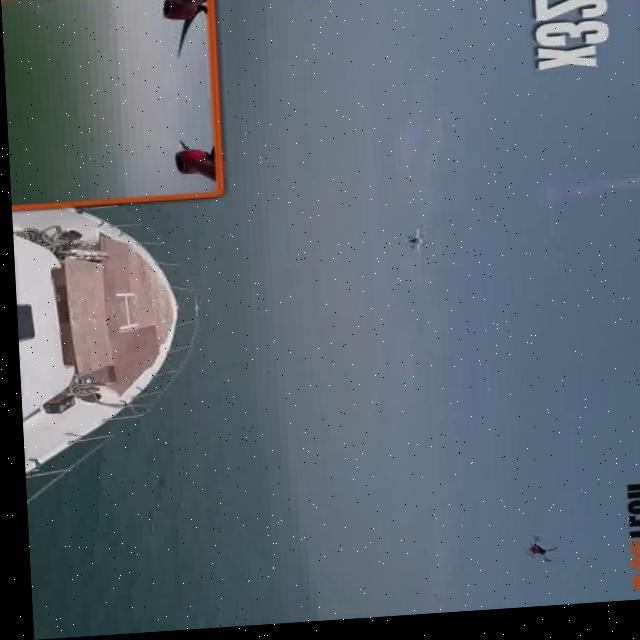drone: (506, 536, 554, 579), (396, 225, 430, 263)
